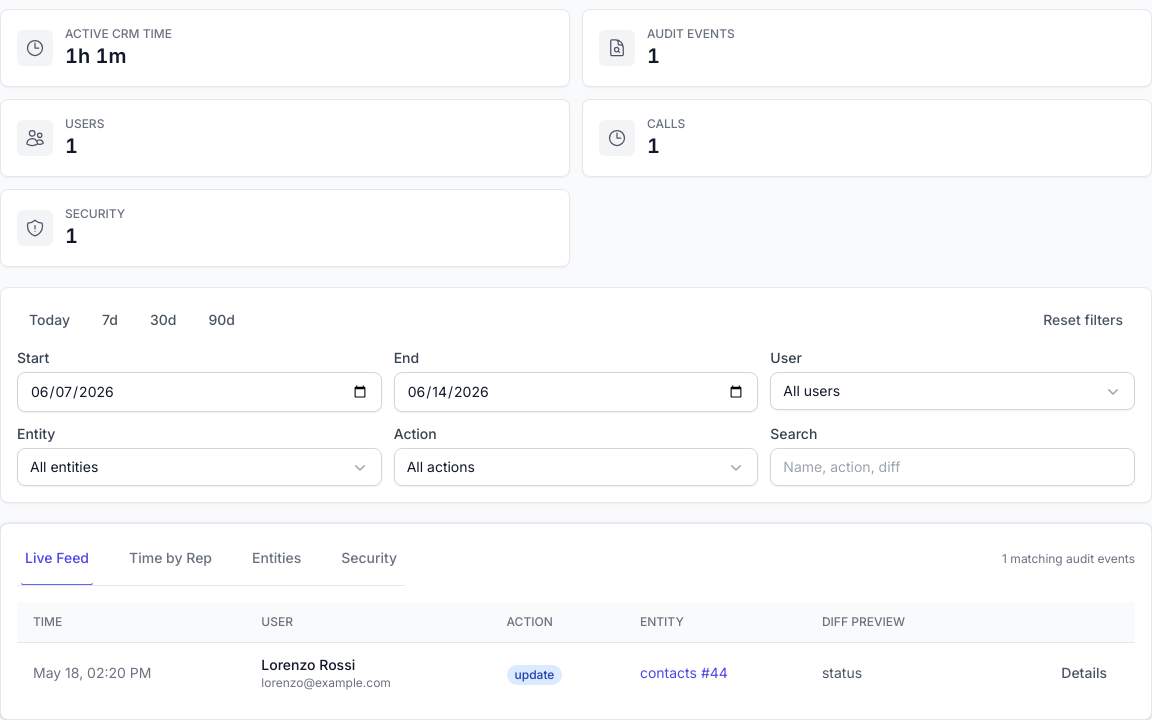
Test: AdminAuditPage › renders the live feed and opens the event drawer
(page scrolled)
Expected: the text "status" is shown, [822,664,862,681]
Click the button "Details". click: (1084, 673)
box: [1049,657,1119,689]
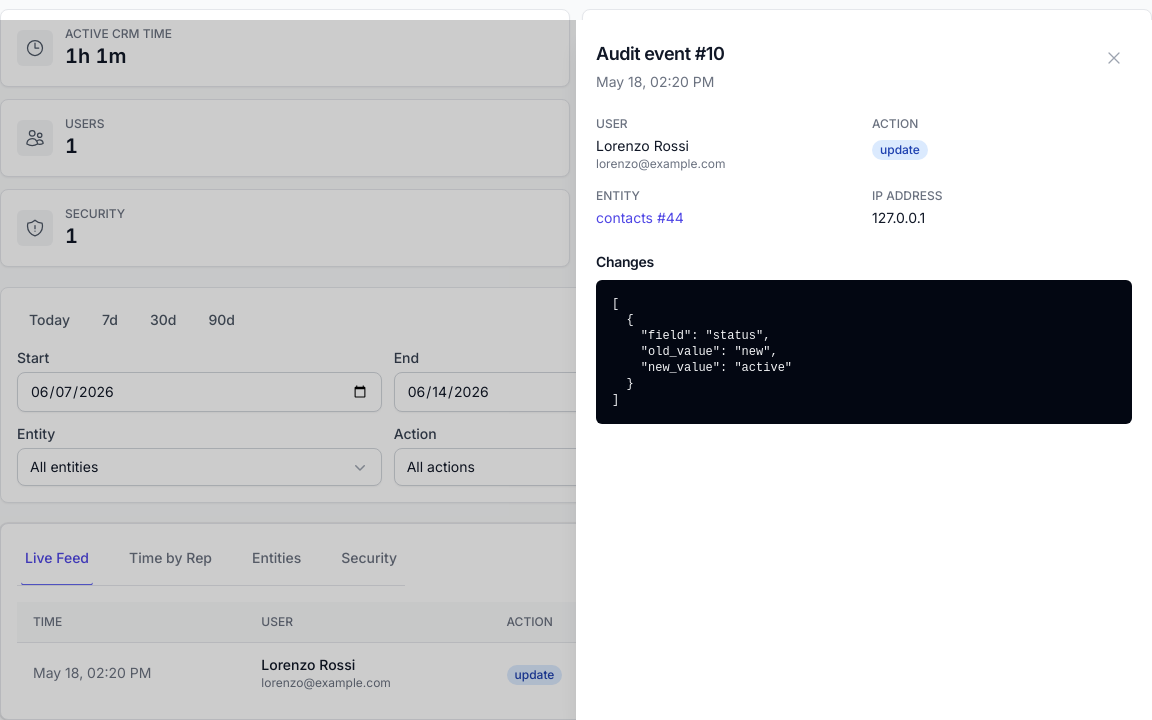
Now the dialog "Audit event #10" is shown, box [576,20,1151,719]
Now the text "127.0.0.1" is shown, box [872,209,925,226]
Now the text "old_value" is shown, box [612,297,792,407]
